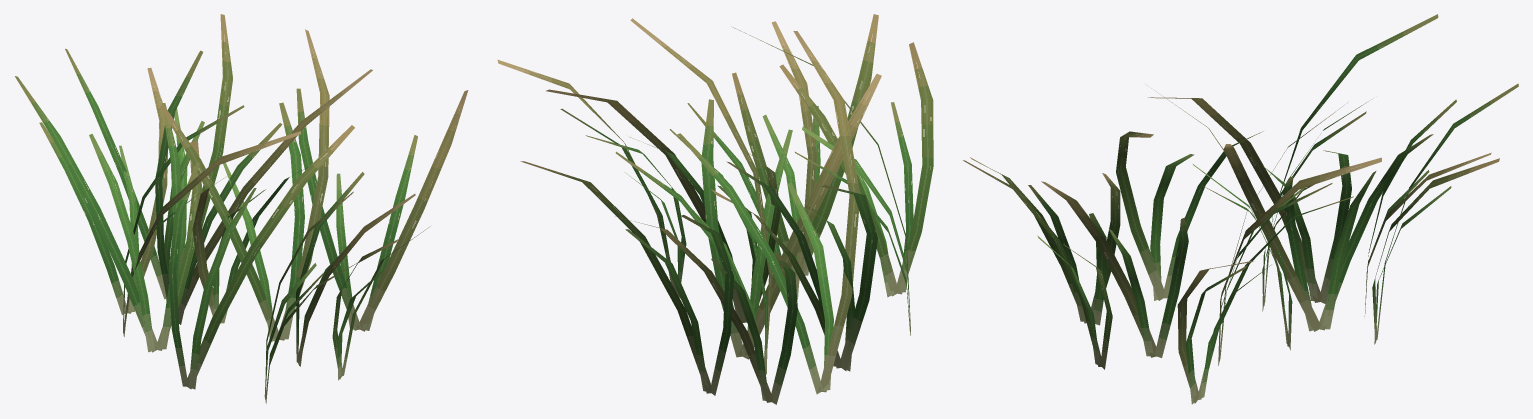
3 renders of one model, left to right at view 1: azimuth 30°, elevation 25°; view 2: azimuth 150°, elevation 25°; view 3: azimuth 270°, elevation 25°, orthographic. The views are drawn at different scales.
Parts seen in each view (by area): view 1: seagrass; view 2: seagrass; view 3: seagrass.
Boxes of the visible parts, box(x1,y1,x2,y2) form: seagrass: box(15, 14, 468, 403); seagrass: box(497, 14, 933, 404); seagrass: box(963, 14, 1518, 404).
Size of the model in its own units: 0.6986 by 0.4437 by 0.8219.
Materials: 1 (1 with a texture image).
